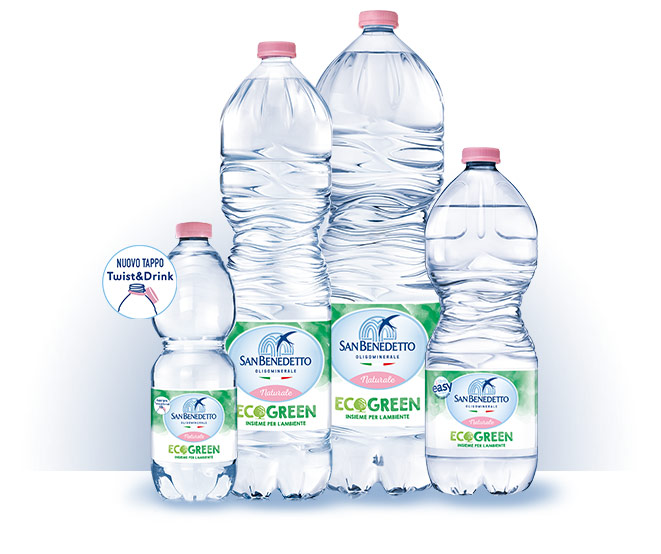PlasticBottle: (328, 7, 446, 496), (217, 41, 334, 499), (423, 143, 544, 499), (148, 221, 234, 506)
